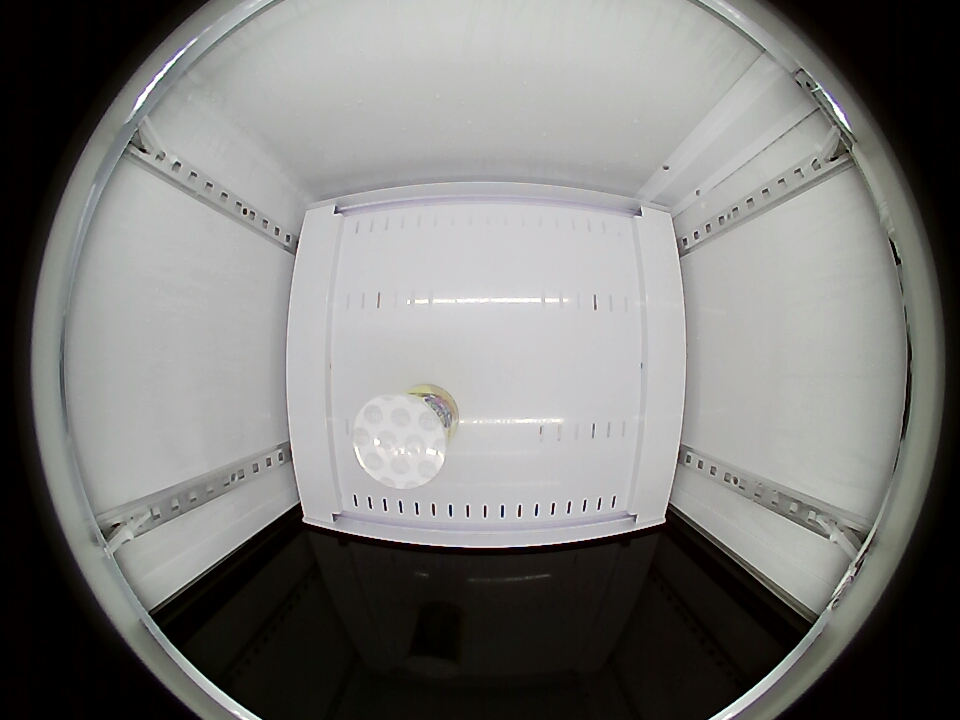kebike: (352, 387, 453, 489)
